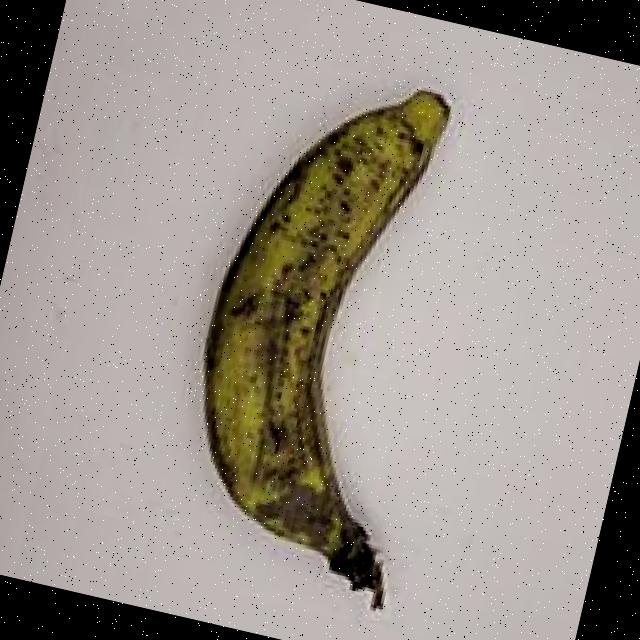Overripe: (96, 13, 563, 640)
